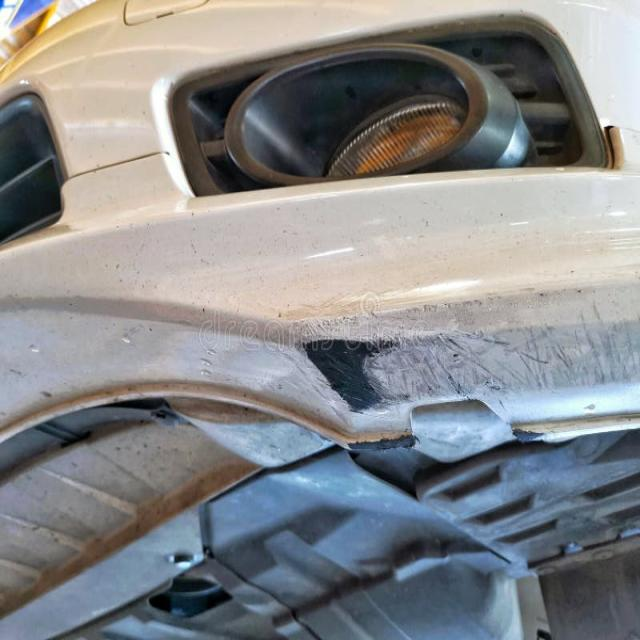scratch: (194, 280, 640, 462)
